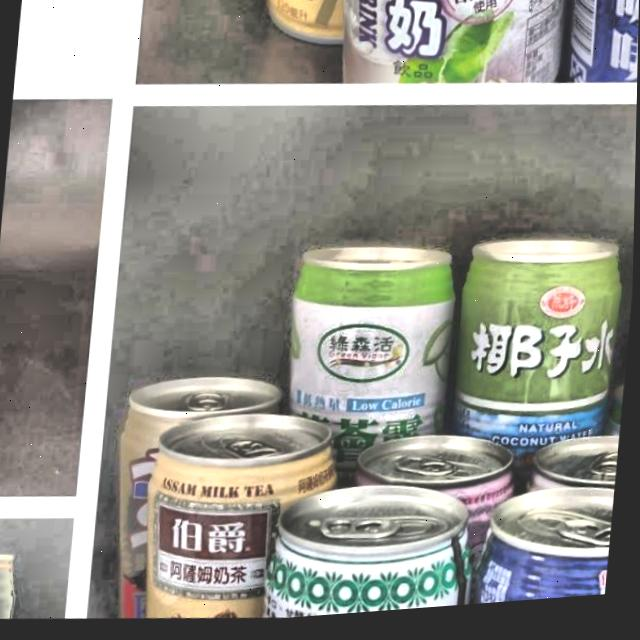metal: (268, 226, 482, 497), (101, 347, 292, 631), (136, 399, 354, 631), (443, 227, 635, 473), (265, 472, 485, 624), (317, 0, 589, 115), (352, 414, 533, 566), (467, 483, 616, 612), (231, 0, 440, 74), (522, 427, 622, 538)
